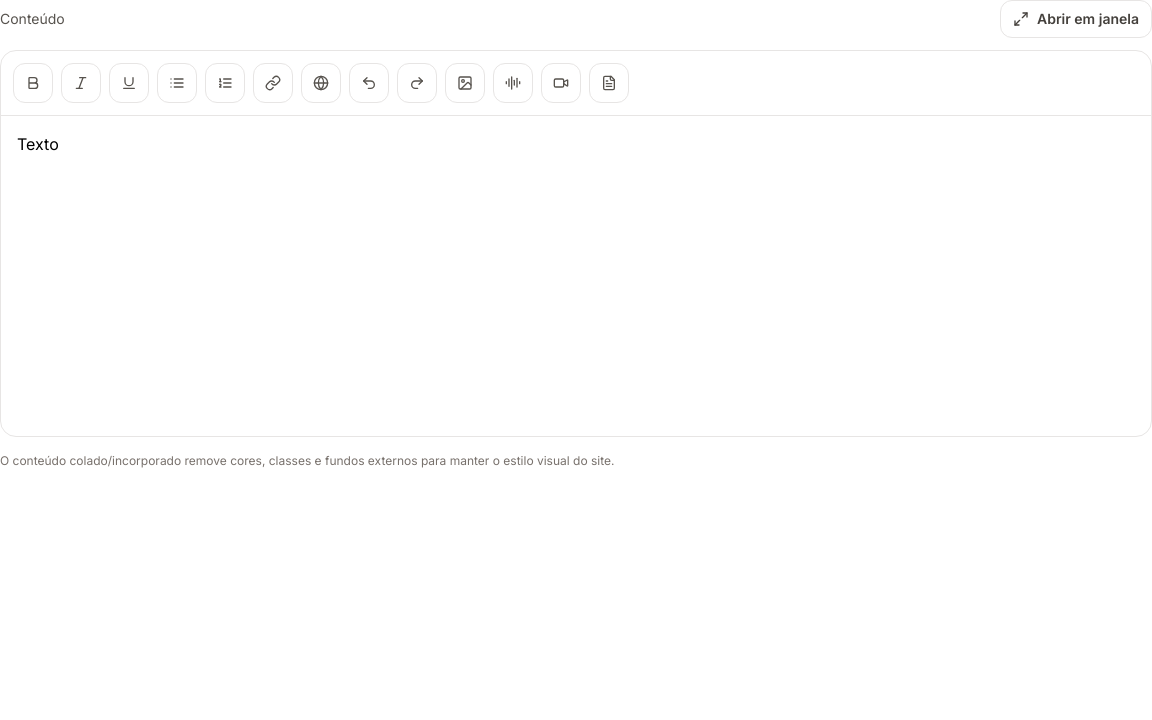
Test: RichTextEditor › opens and closes the optional fullscreen writing window
Click the button "Abrir em janela": {"x": 1076, "y": 19} [1000,0,1151,38]
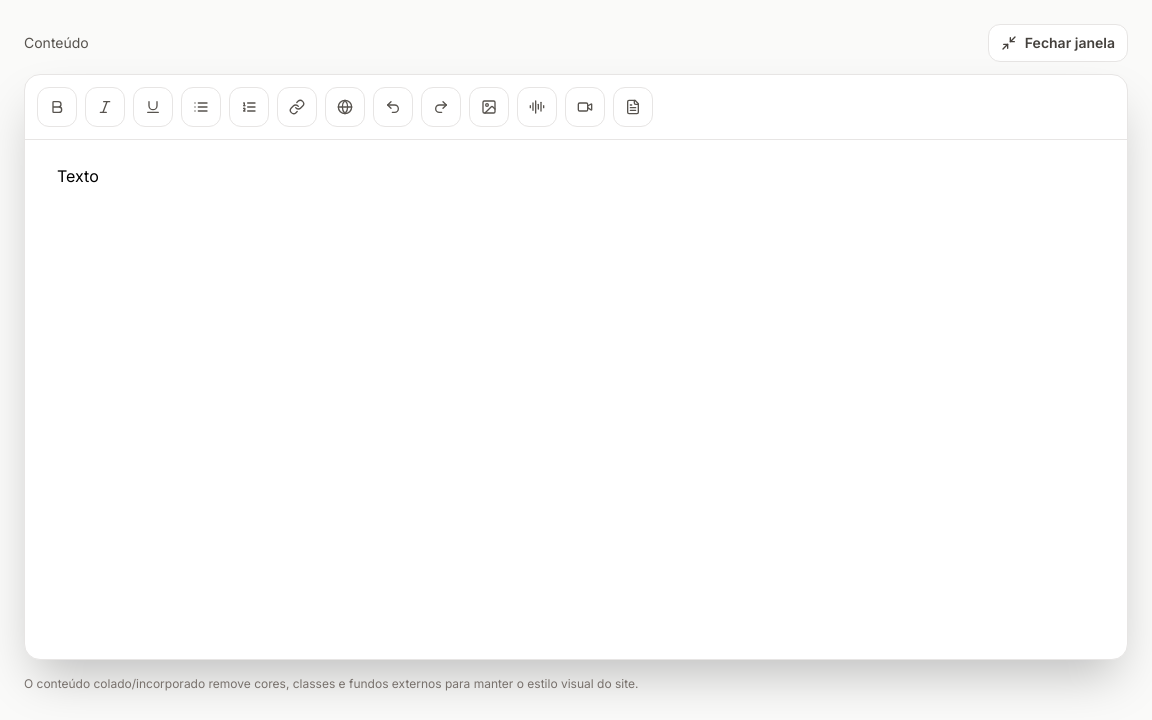
Check: the dialog "Conteúdo" is shown
Check: the button "Fechar janela" is expanded
Click the button "Fechar janela": {"x": 1058, "y": 43} [988,24,1128,62]
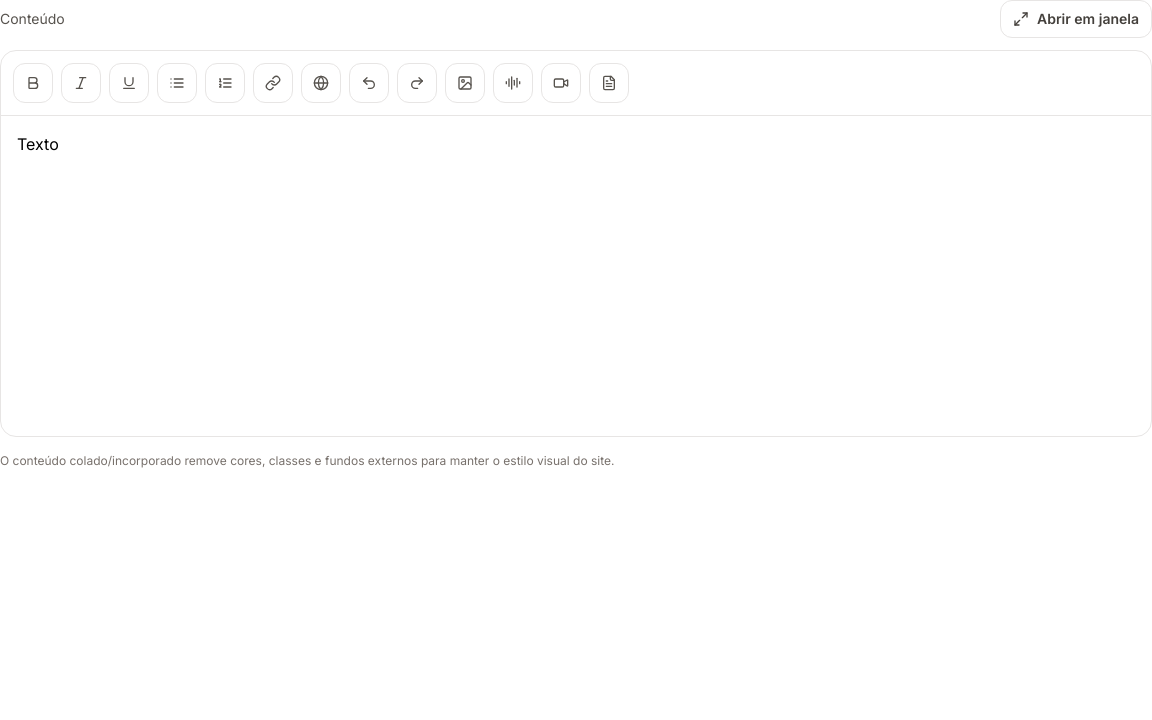
Check: the button "Abrir em janela" is collapsed, box [1000,0,1151,38]
